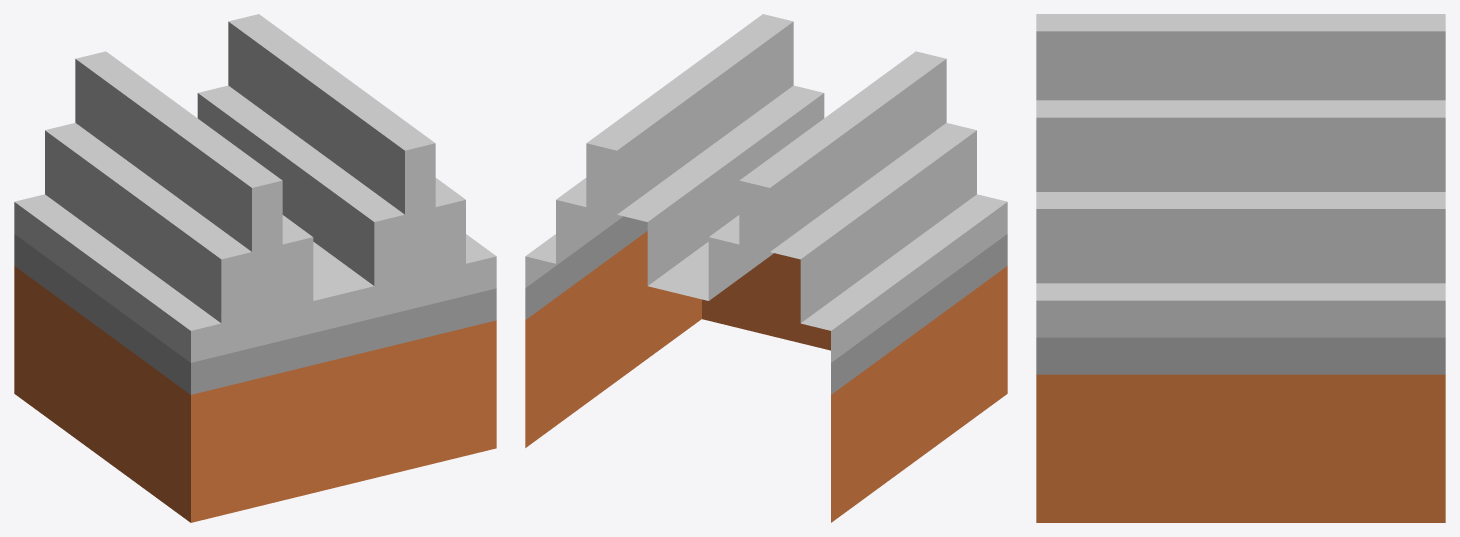
File: Trap.fbx
3 views of the same model, side by side, from view 1: azimuth 30°, elevation 25°; view 2: azimuth 150°, elevation 25°; view 3: azimuth 270°, elevation 25° (orthographic). The views are drawn at different scales.
Parts seen in each view (by area): view 1: shi[; view 2: shi[; view 3: shi[.
Boxes of the visible parts, x1,y1,x2,y2 form: shi[: [14, 14, 496, 522]; shi[: [525, 14, 1007, 522]; shi[: [1036, 14, 1445, 522].
Bounding box in the file's own units: 1 × 1 × 1.
